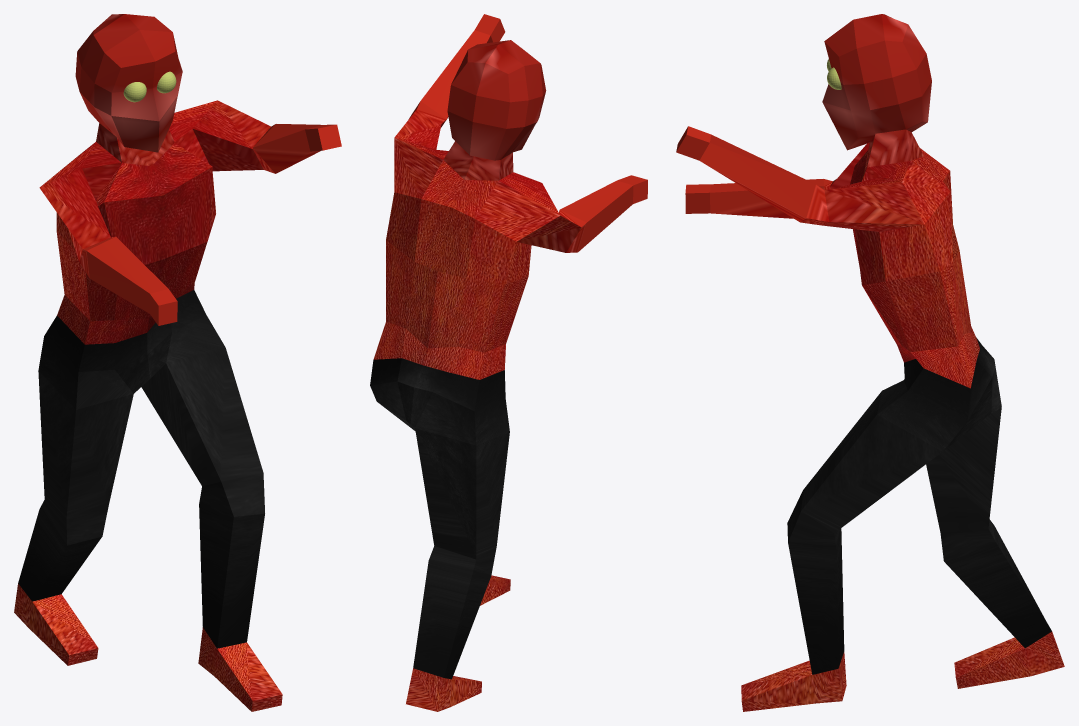
Rendered from laySheary_000016.obj.
3 renders of one model, left to right at view 1: azimuth 30°, elevation 25°; view 2: azimuth 150°, elevation 25°; view 3: azimuth 270°, elevation 25°, orthographic. The views are drawn at different scales.
Visible parts, largest first — view 1: Cube; view 2: Cube; view 3: Cube.
Boxes of the visible parts, box(x1,y1,x2,y2) form: Cube: box(14, 14, 341, 711); Cube: box(370, 14, 647, 711); Cube: box(676, 14, 1064, 711).
Size of the model in its own units: 5.2 by 15.89 by 8.36.
Materials: 3 (2 with a texture image).
